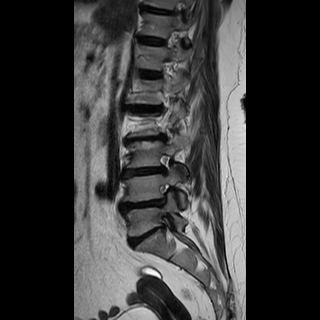RFS0: (151, 149, 177, 177)
